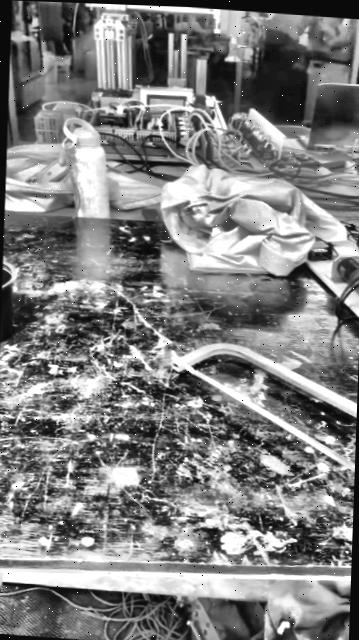pot: (0, 263, 15, 342)
